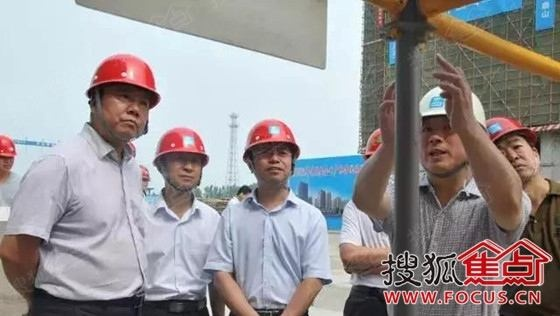red: (86, 51, 156, 147), (480, 110, 540, 189), (239, 118, 299, 191), (150, 124, 206, 194), (1, 134, 19, 183)
white: (415, 79, 485, 181)
